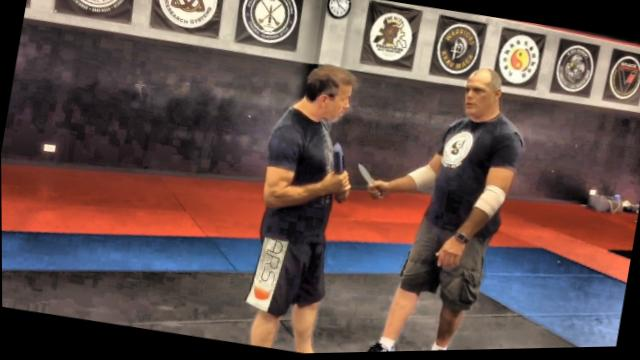knife: (349, 160, 391, 204)
